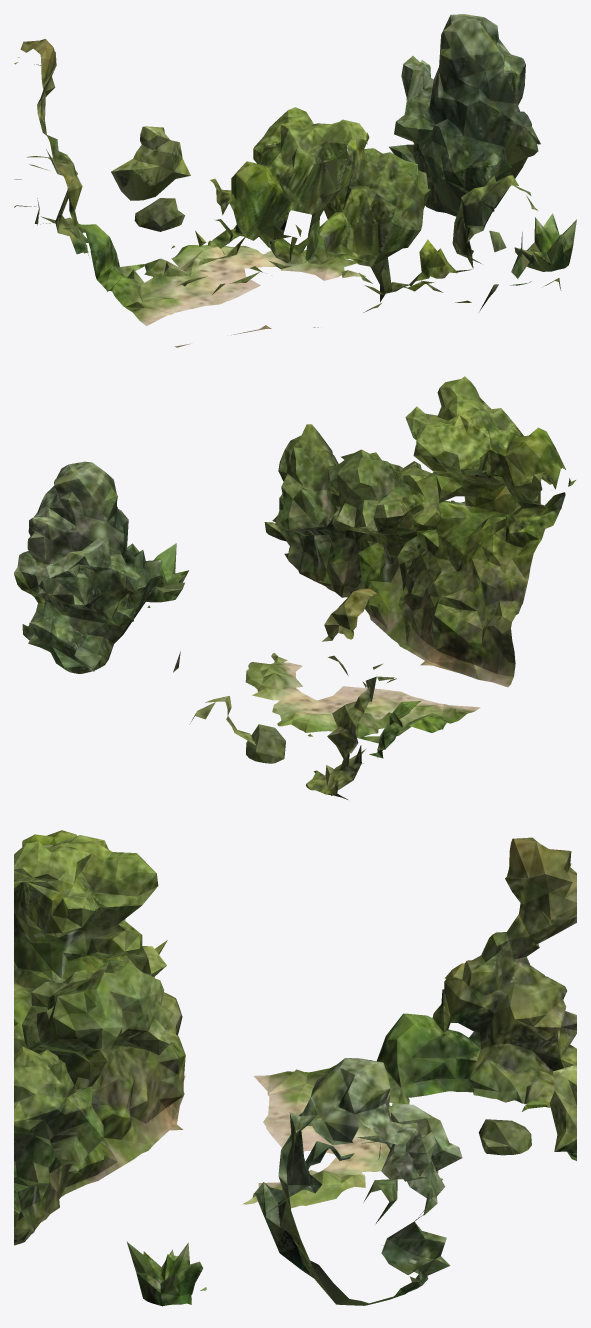
The picture shows the model from 3 angles, top to bottom: view 1: azimuth 30°, elevation 25°; view 2: azimuth 150°, elevation 25°; view 3: azimuth 270°, elevation 25°; orthographic projection. The views are drawn at different scales.
Bounding box in the file's own units: 26.11 × 15.3 × 26.11.
Materials: 4 (4 with a texture image).
